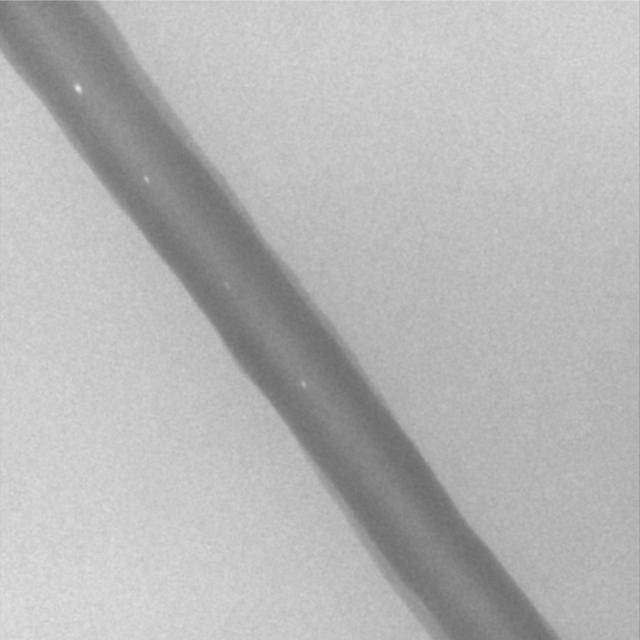air hole: (71, 82, 82, 96), (298, 378, 308, 389), (141, 173, 149, 184)
